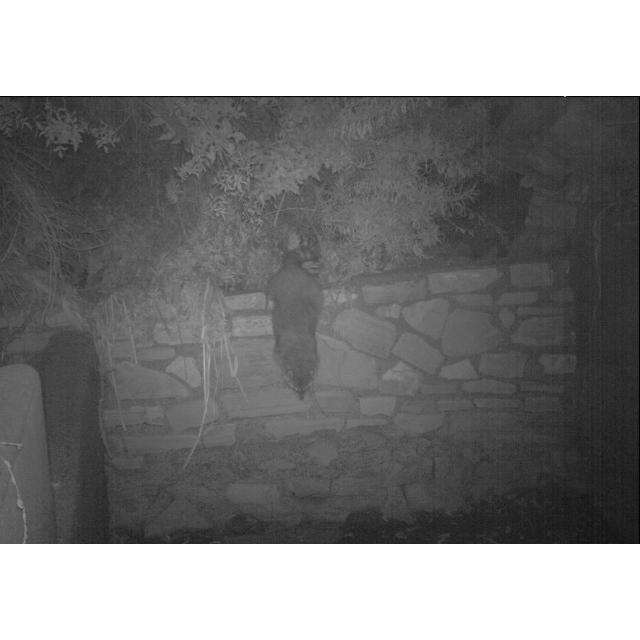animals: (265, 233, 327, 403)
